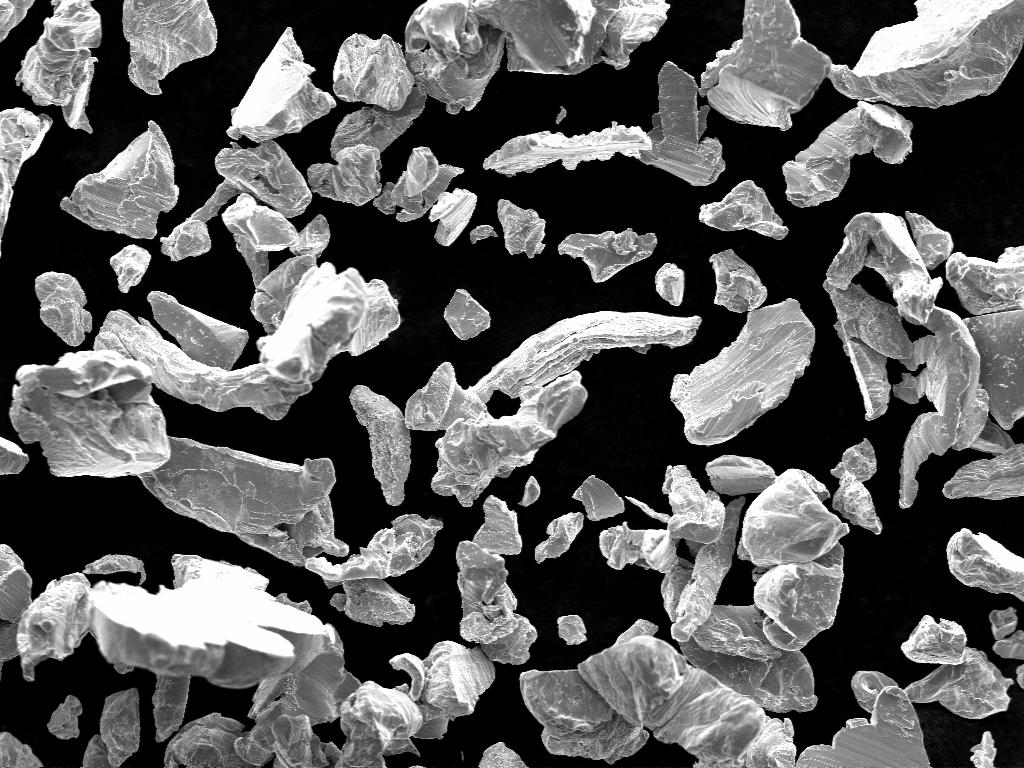Powder: (308, 0, 668, 205), (94, 256, 398, 420), (520, 620, 764, 764), (90, 556, 334, 688), (164, 626, 360, 768), (140, 438, 348, 565), (404, 362, 586, 506), (670, 298, 816, 445), (600, 496, 744, 642), (830, 0, 1024, 107), (472, 312, 702, 402), (10, 350, 170, 477), (340, 642, 494, 765), (894, 308, 988, 507), (162, 140, 312, 261), (742, 672, 930, 768), (700, 0, 832, 129), (306, 514, 442, 625), (680, 606, 818, 711), (60, 122, 178, 238), (782, 102, 912, 206), (456, 496, 536, 664), (828, 212, 942, 324), (824, 280, 914, 419), (230, 28, 336, 142), (16, 0, 102, 131), (738, 470, 848, 568), (640, 62, 726, 186), (222, 194, 330, 285), (754, 544, 844, 649), (484, 122, 652, 176), (122, 0, 216, 93), (16, 572, 90, 681), (148, 292, 248, 369), (626, 466, 726, 543), (906, 648, 1012, 719), (350, 386, 410, 506), (964, 310, 1024, 430), (0, 108, 52, 241), (374, 146, 464, 221), (334, 34, 414, 111), (946, 528, 1024, 601), (946, 246, 1024, 315), (558, 228, 656, 282), (700, 180, 788, 239), (832, 438, 882, 534), (82, 688, 140, 768), (942, 444, 1024, 499), (34, 274, 92, 346), (710, 250, 768, 312), (902, 616, 964, 665), (430, 188, 478, 246), (498, 200, 546, 258), (706, 456, 776, 495), (906, 212, 952, 270), (0, 544, 32, 621), (152, 676, 189, 741), (444, 288, 490, 340), (572, 476, 624, 520), (536, 514, 583, 561), (110, 244, 152, 291), (988, 608, 1024, 659), (84, 554, 146, 583), (0, 732, 42, 768), (970, 420, 1014, 454), (48, 696, 82, 739), (0, 0, 33, 41), (478, 742, 526, 768), (656, 264, 684, 306), (0, 438, 28, 473), (970, 732, 996, 768), (0, 620, 18, 671), (558, 614, 586, 646), (274, 594, 312, 614), (520, 476, 540, 506), (470, 226, 498, 243), (556, 106, 568, 123), (114, 665, 133, 674), (1016, 666, 1024, 687)
